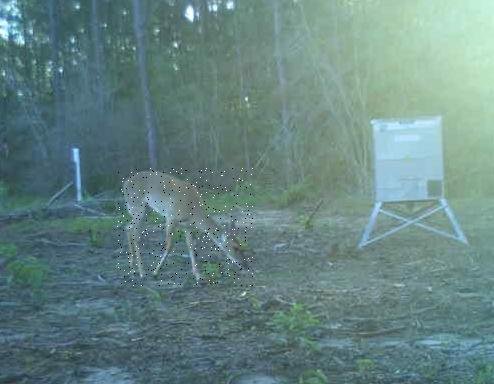Deer: (117, 169, 253, 287)
